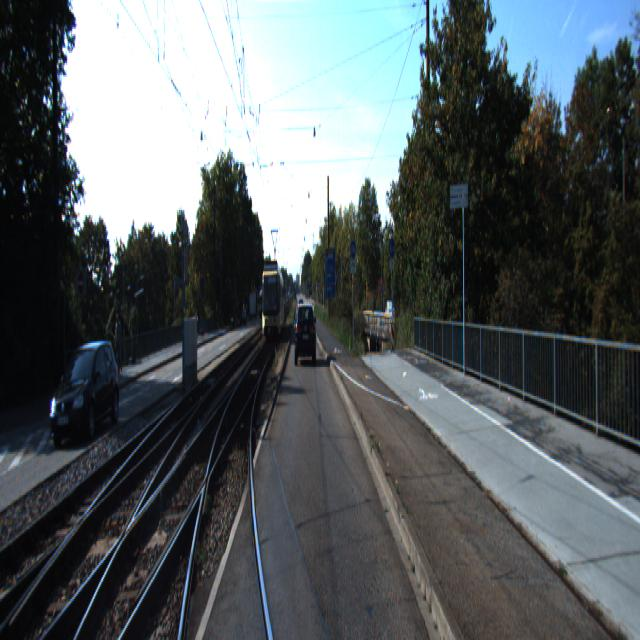Car: (48, 336, 124, 447), (260, 256, 285, 343), (295, 304, 315, 367)
